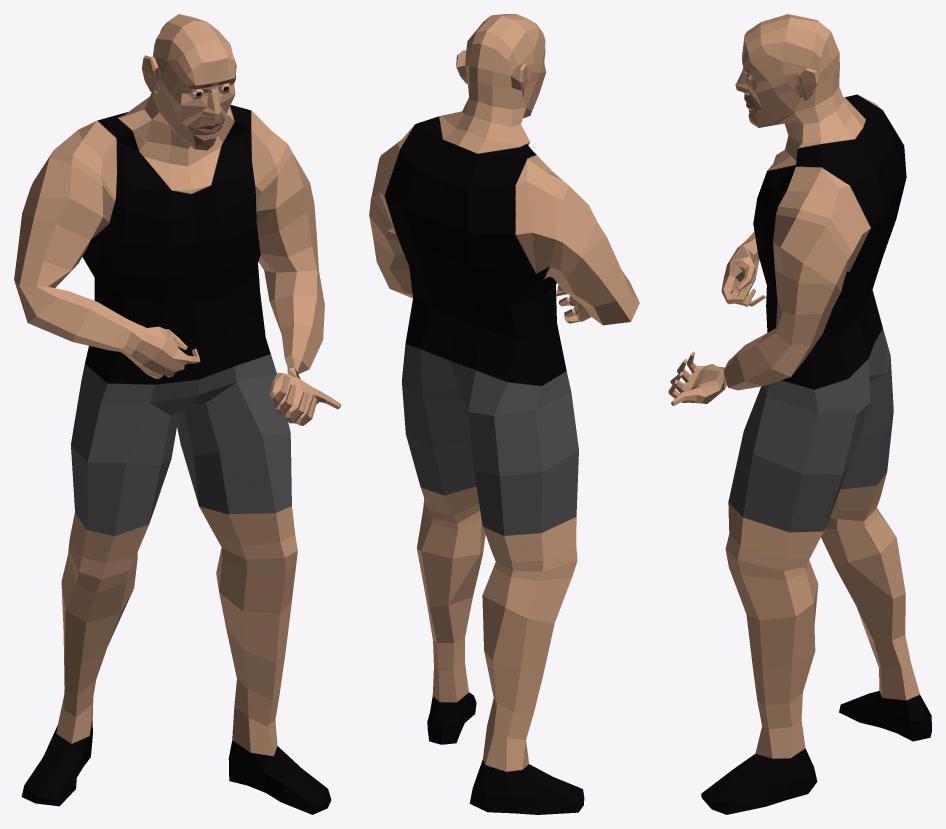
File: PlayerIdle(98).obj
3 renders of one model, left to right at view 1: azimuth 30°, elevation 25°; view 2: azimuth 150°, elevation 25°; view 3: azimuth 270°, elevation 25°, orthographic. The views are drawn at different scales.
Parts seen in each view (by area): view 1: Plane002; view 2: Plane002; view 3: Plane002.
Boxes of the visible parts, x1,y1,x2,y2 form: Plane002: (14, 14, 340, 814); Plane002: (369, 14, 639, 814); Plane002: (668, 14, 931, 814).
Bounding box in the file's own units: 681 × 1804 × 576.
